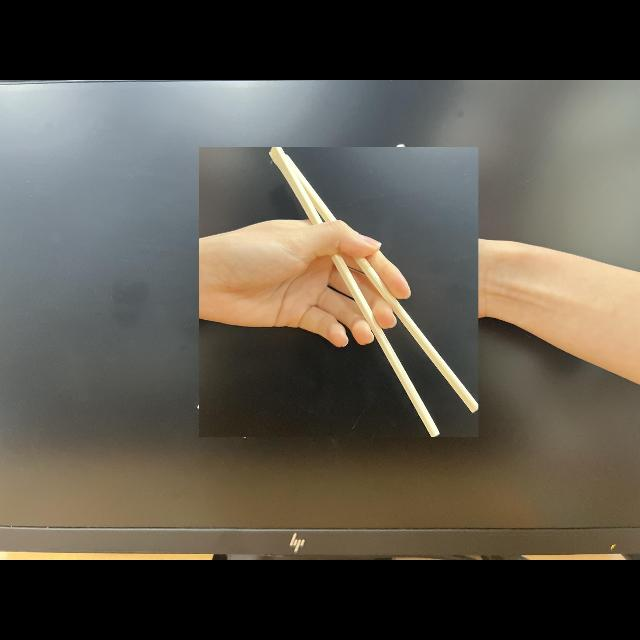stick: (200, 147, 478, 437)
